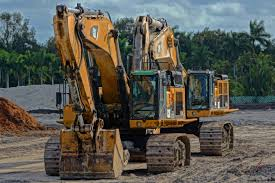excavator: (48, 4, 193, 174), (131, 15, 238, 161)
